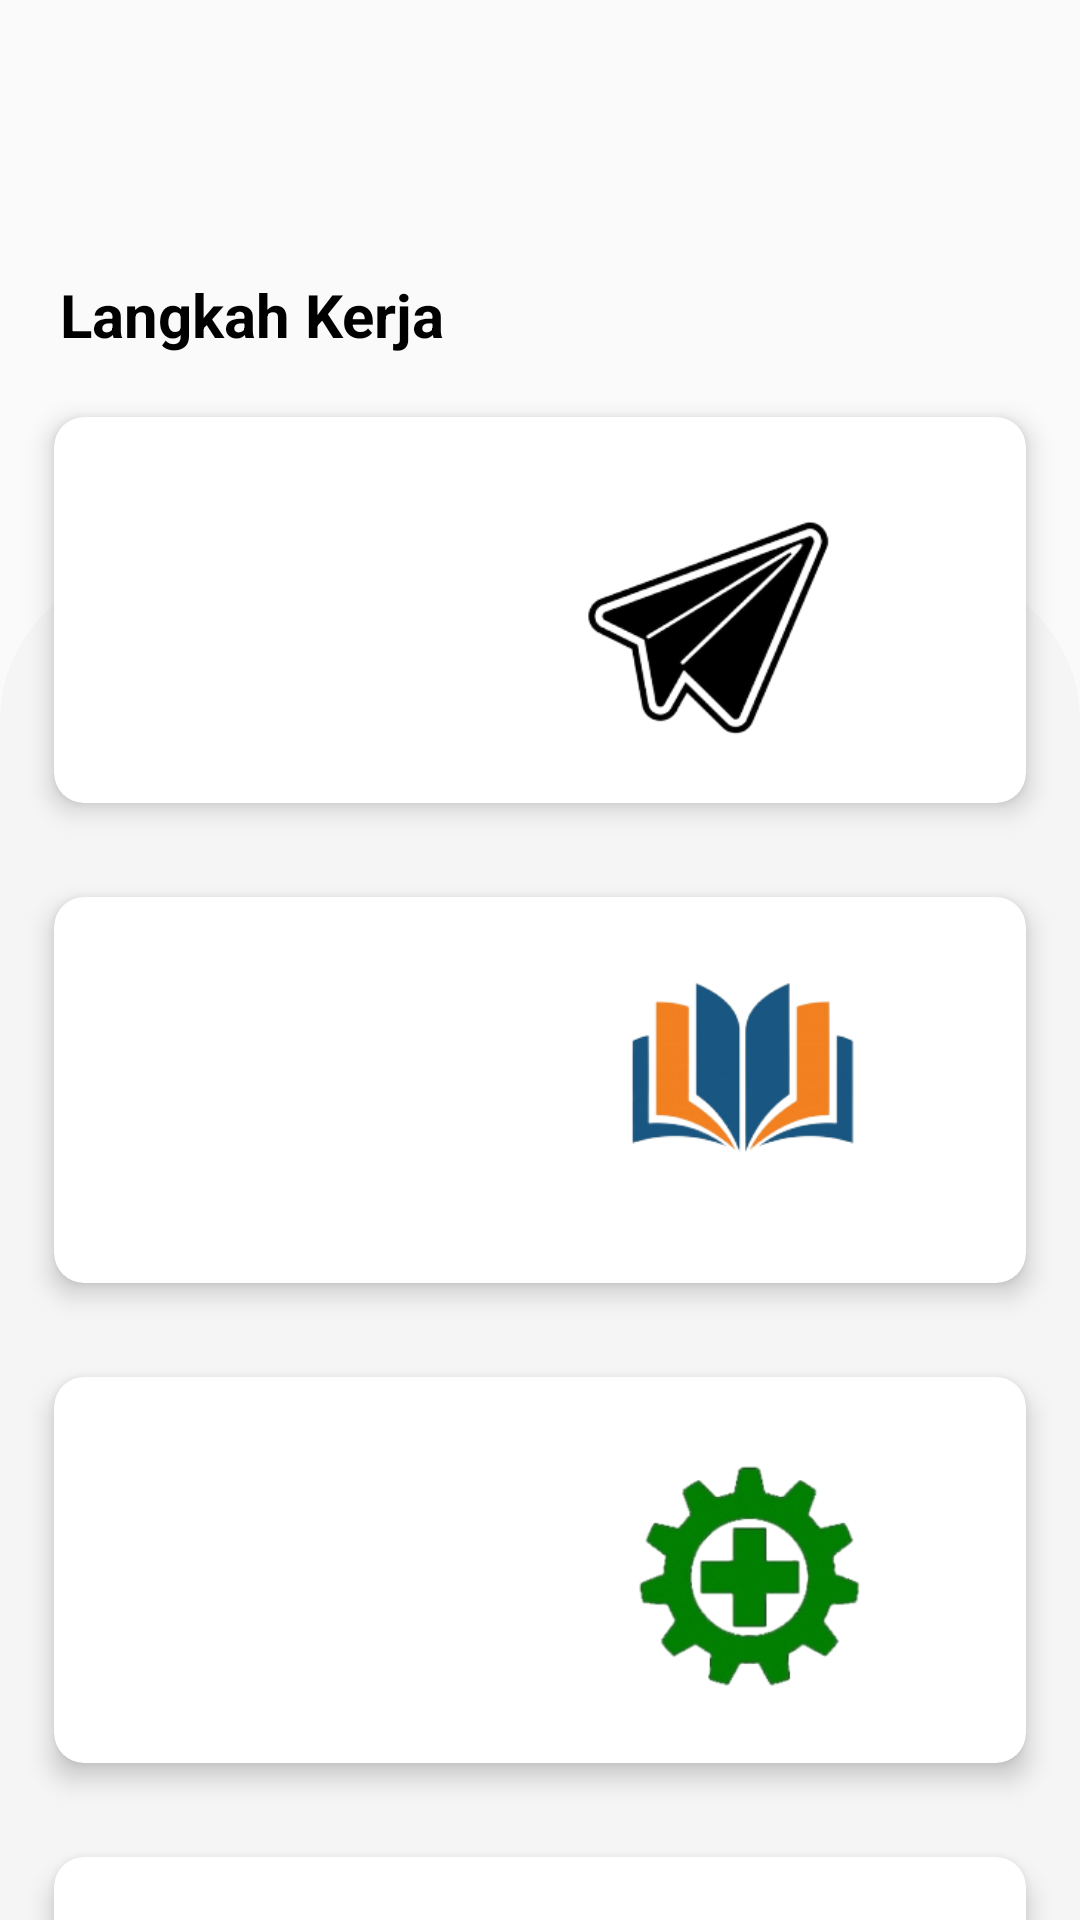

Icons on this 1080*1920 Android screen, each with its box as BBox(x1, y1, x2, y2):
book: BBox(632, 983, 854, 1151)
